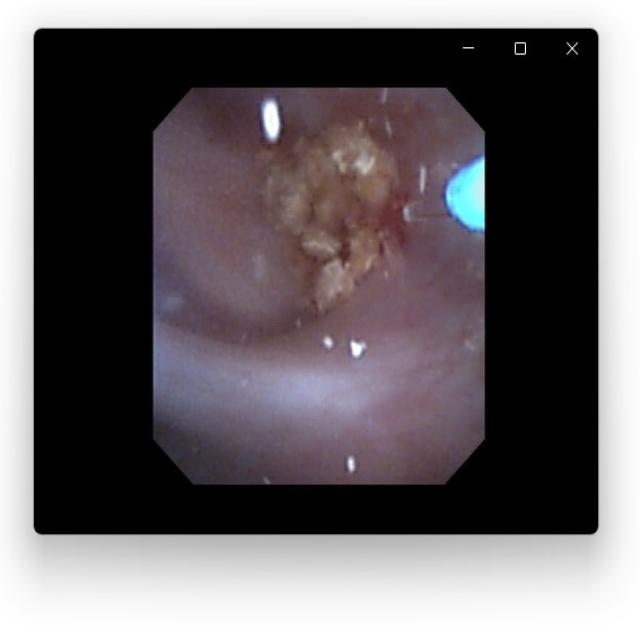fiber: (446, 159, 480, 229)
stone: (252, 119, 396, 312)
